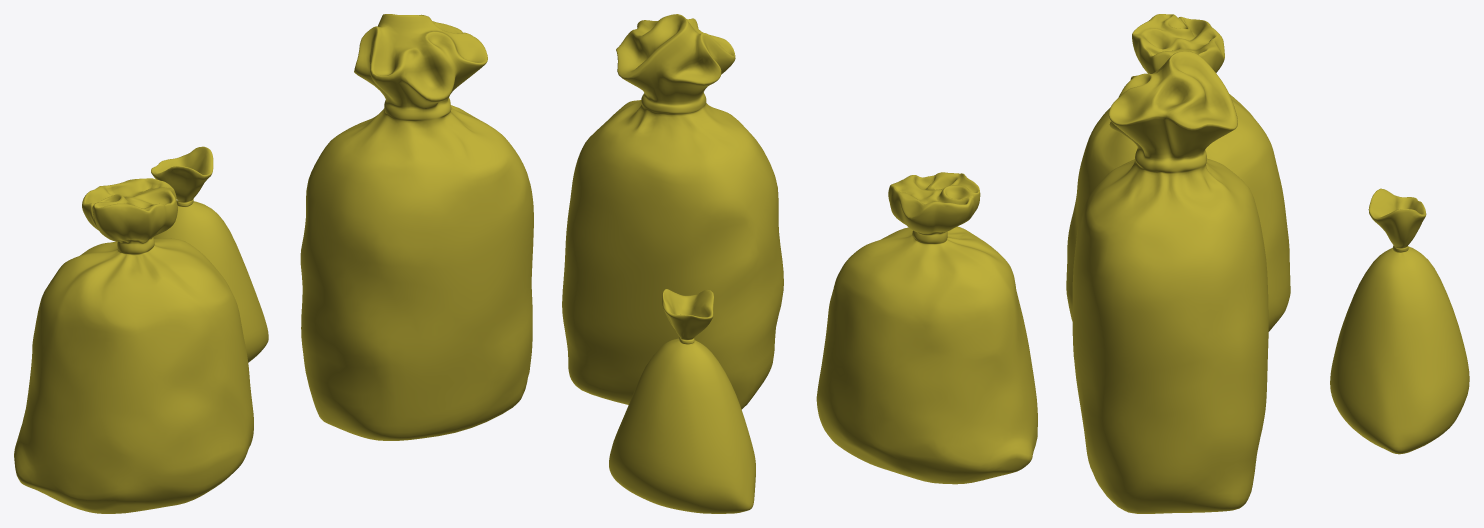
File: Money_Sack_B_smoothed.FBX
The picture shows the model from 3 angles, left to right: view 1: azimuth 30°, elevation 25°; view 2: azimuth 150°, elevation 25°; view 3: azimuth 270°, elevation 25°; orthographic projection. The views are drawn at different scales.
Parts seen in each view (by area): view 1: Money_Sack_B1, Money_Sack_B2, Money_Sack_B3; view 2: Money_Sack_B1, Money_Sack_B2, Money_Sack_B3; view 3: Money_Sack_B1, Money_Sack_B3, Money_Sack_B2.
Part boxes in pixels (left/top/right/bottom): Money_Sack_B1: left=300, top=14, right=533, bottom=440; Money_Sack_B2: left=14, top=178, right=253, bottom=513; Money_Sack_B3: left=151, top=146, right=268, bottom=362; Money_Sack_B1: left=562, top=14, right=783, bottom=409; Money_Sack_B2: left=816, top=172, right=1037, bottom=484; Money_Sack_B3: left=609, top=289, right=755, bottom=513; Money_Sack_B1: left=1072, top=51, right=1268, bottom=513; Money_Sack_B3: left=1330, top=188, right=1469, bottom=454; Money_Sack_B2: left=1066, top=14, right=1290, bottom=331.
Size of what is drawn, in the model's own units: 94.45 by 74.8 by 63.75.
